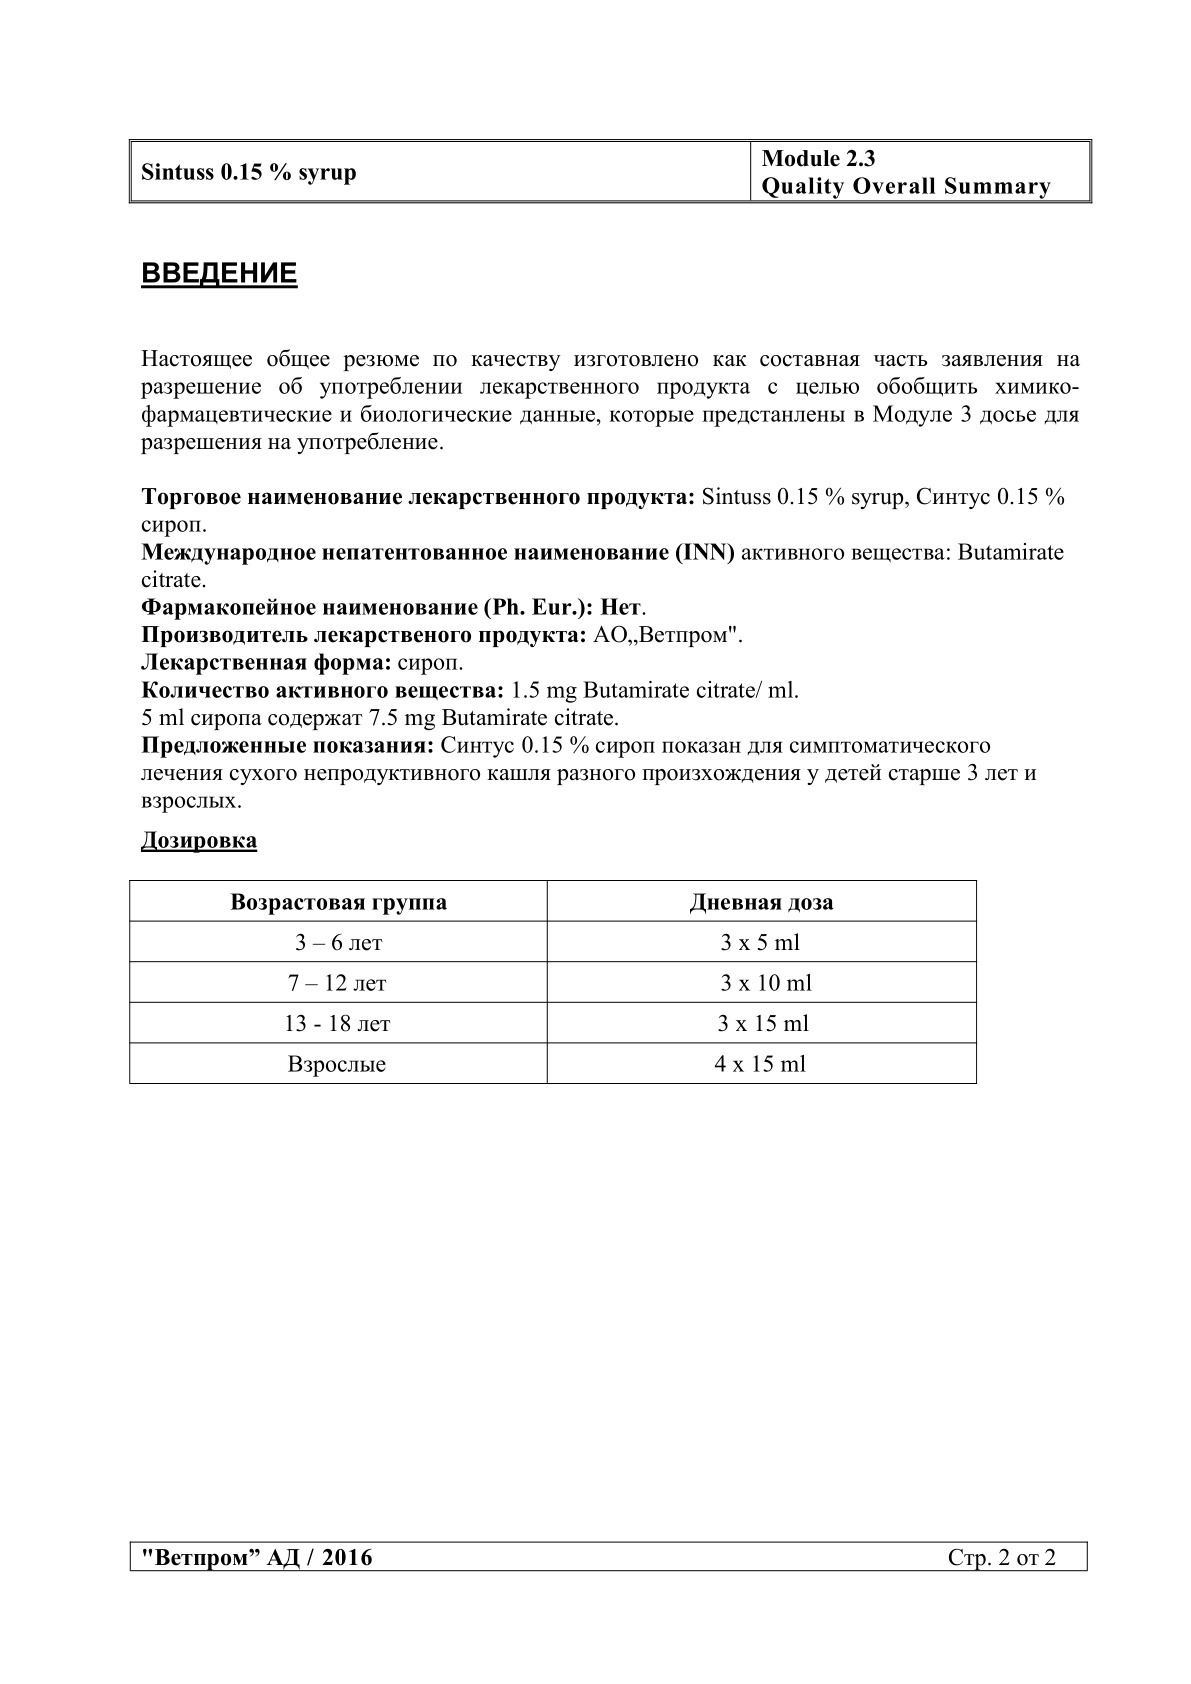full_lined: (128, 877, 978, 1085), (128, 137, 1093, 204), (128, 1541, 1089, 1572)
